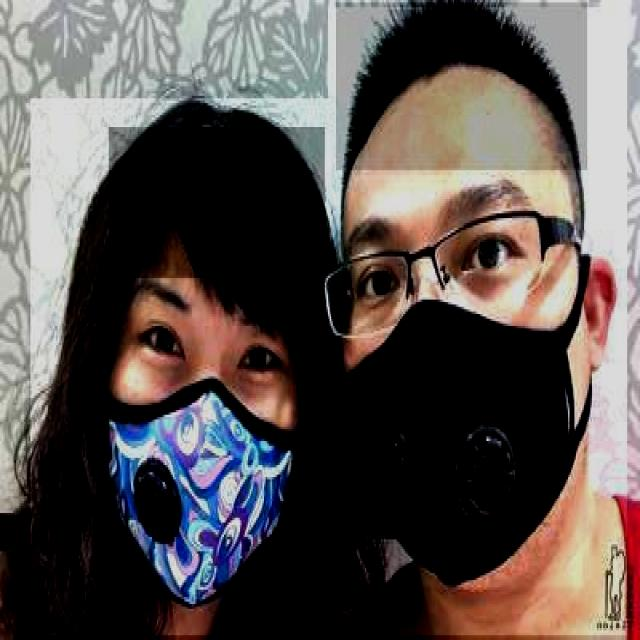face_mask: (341, 175, 582, 590), (104, 271, 306, 609)
glasses: (320, 199, 550, 348)
head_nohelmet: (334, 2, 588, 172), (107, 127, 325, 280)
person: (327, 7, 628, 638), (29, 98, 331, 638)
